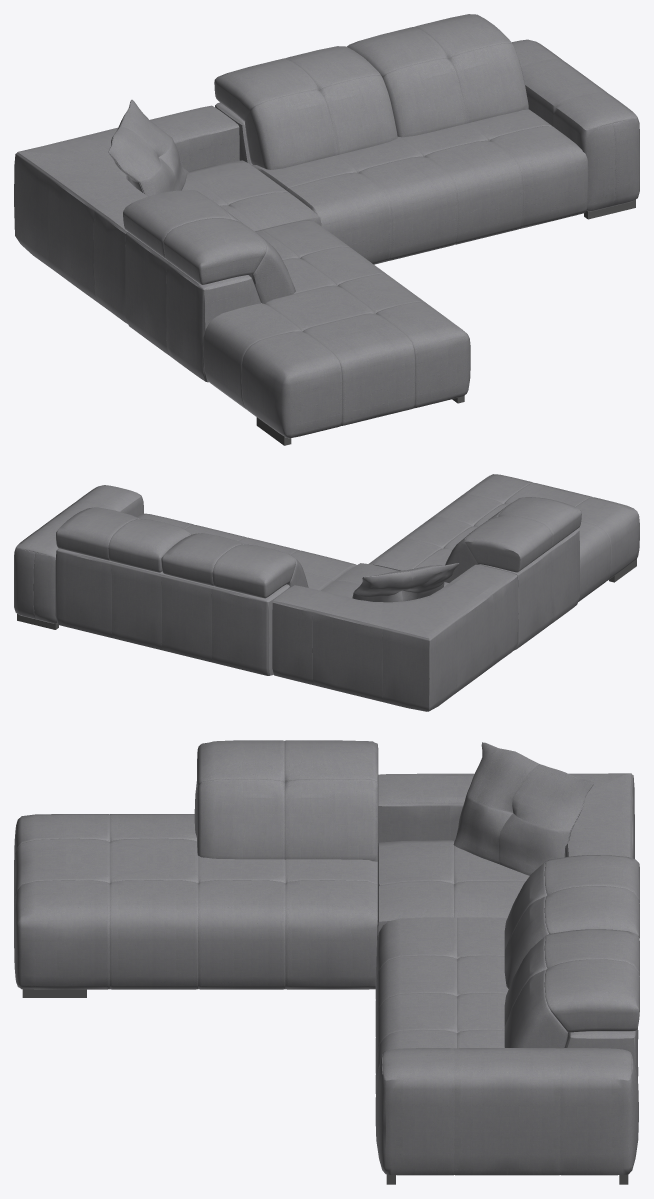
3 views of the same model, one above another, from view 1: azimuth 30°, elevation 25°; view 2: azimuth 150°, elevation 25°; view 3: azimuth 270°, elevation 25° (orthographic). The views are drawn at different scales.
Parts seen in each view (by area): view 1: Natuzzi_Sorround_Sofa_2571; view 2: Natuzzi_Sorround_Sofa_2571; view 3: Natuzzi_Sorround_Sofa_2571.
Boxes of the visible parts, <box> form: Natuzzi_Sorround_Sofa_2571: <box>14,14,639,445</box>; Natuzzi_Sorround_Sofa_2571: <box>14,474,639,711</box>; Natuzzi_Sorround_Sofa_2571: <box>14,740,639,1184</box>.
Bounding box in the file's own units: 1.26 × 0.3344 × 1.13.
Materials: 2 (1 with a texture image).
